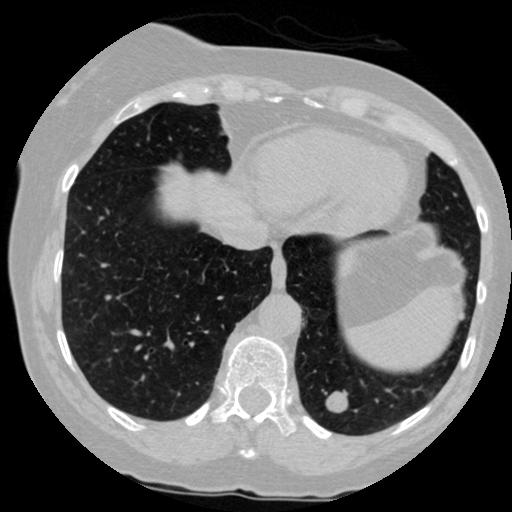nodule: (323, 389, 350, 416)
